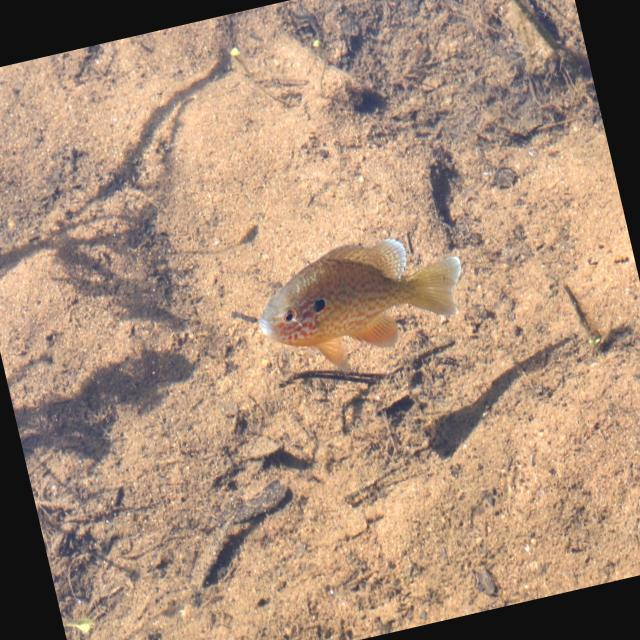Gunes Levregi: (243, 215, 479, 388)
